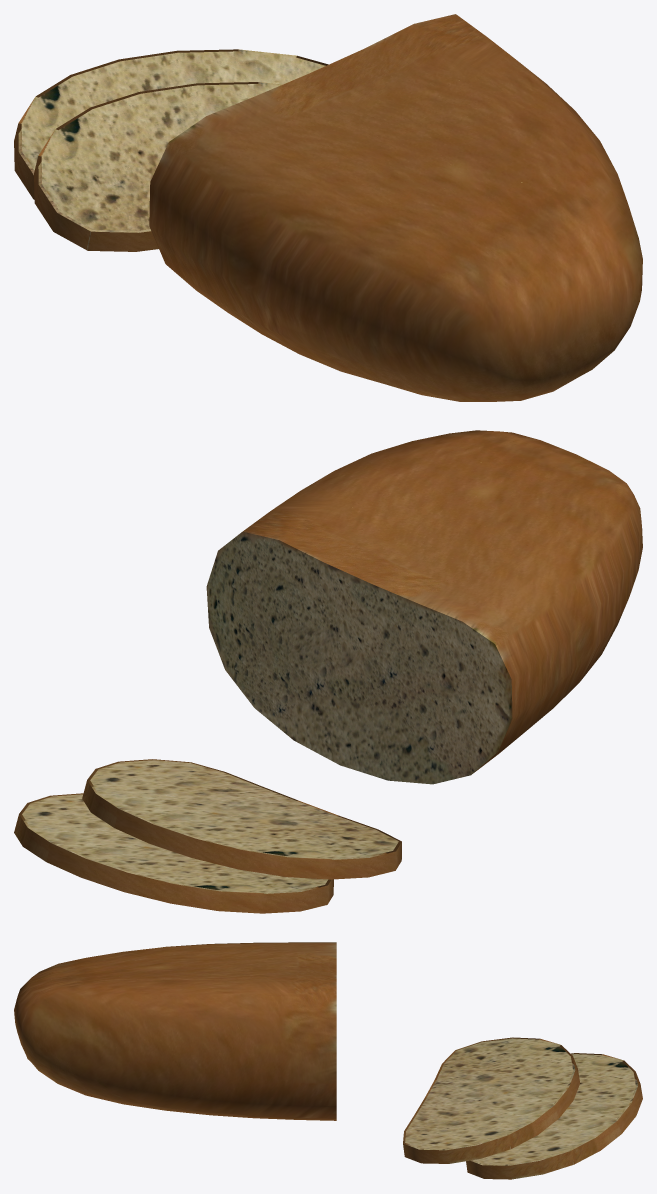
File: bread.glb
3 renders of one model, top to bottom at view 1: azimuth 30°, elevation 25°; view 2: azimuth 150°, elevation 25°; view 3: azimuth 270°, elevation 25°, orthographic. The views are drawn at different scales.
Parts seen in each view (by area): view 1: bread; view 2: bread; view 3: bread.
Part boxes in pixels (bbox=[...]): bread: bbox=[14, 14, 642, 401]; bread: bbox=[14, 430, 642, 913]; bread: bbox=[14, 942, 642, 1179].
Size of the model in its own units: 8.81 by 5.47 by 18.78.
1 material, 1 textured.
